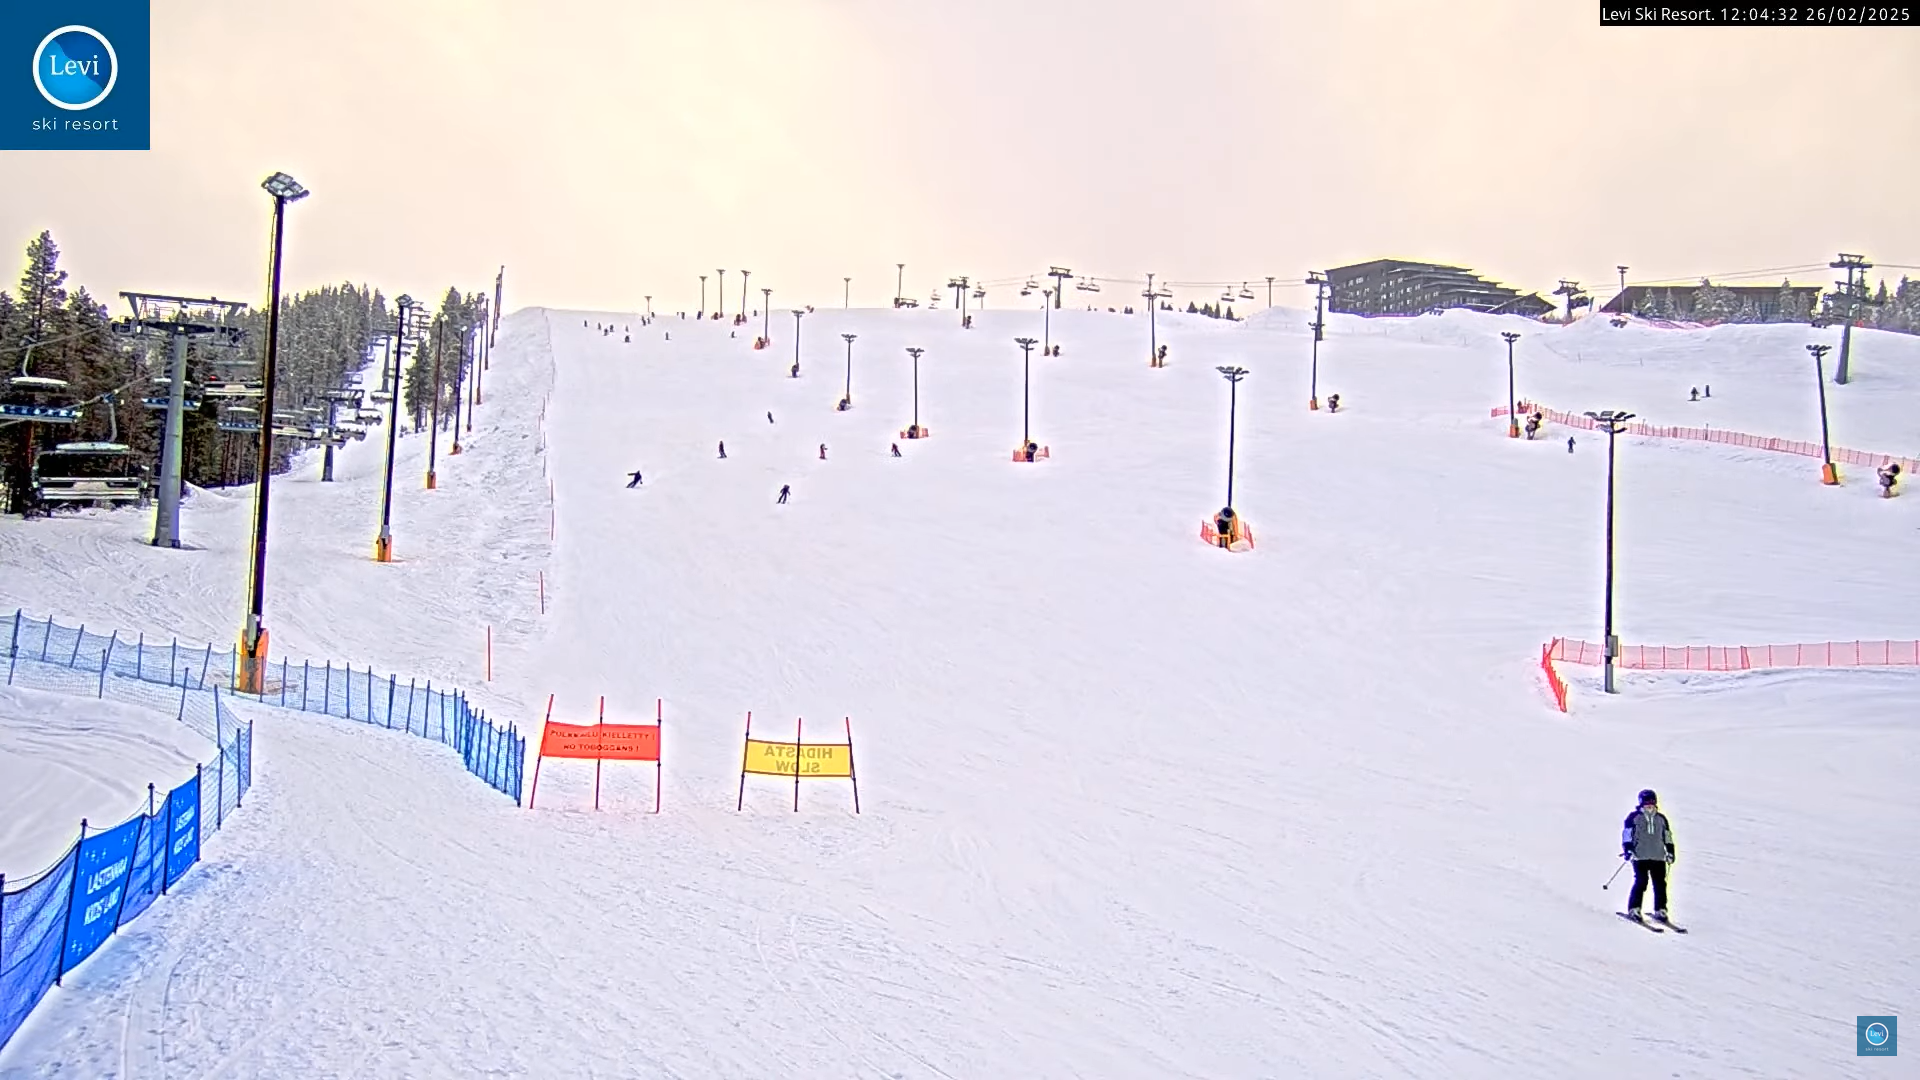skier: (1600, 786, 1691, 940)
